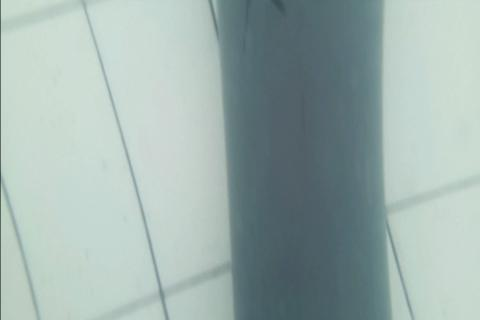keretakan: (240, 0, 250, 54), (271, 0, 289, 18)
